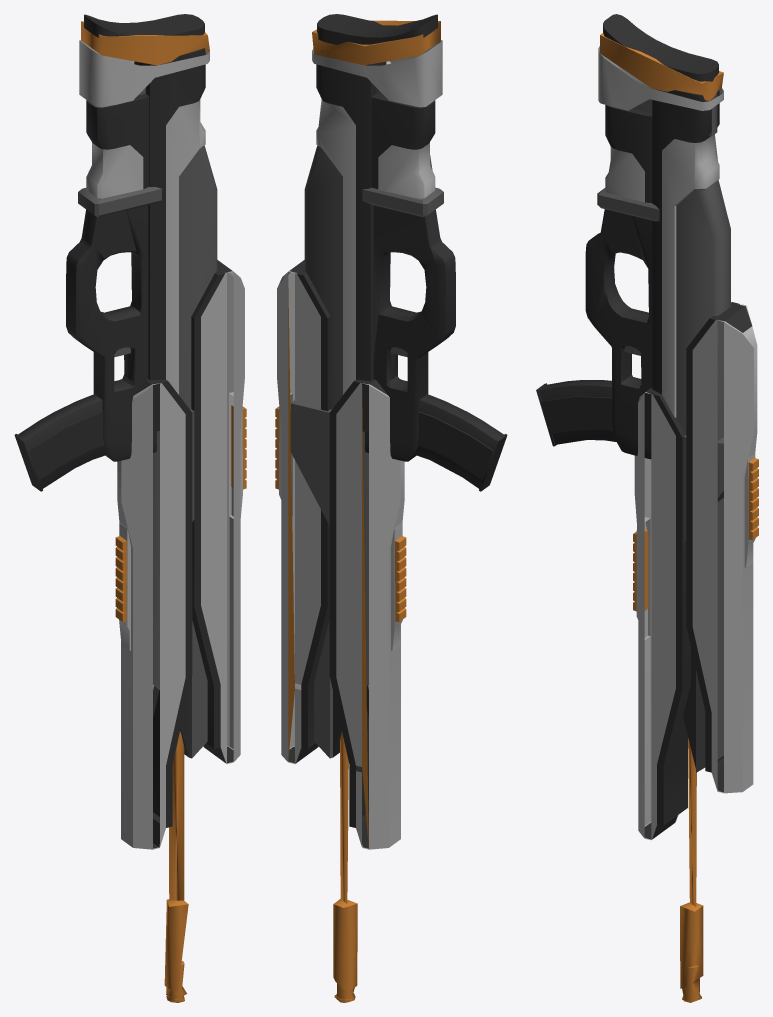
File: qg-sniper-1-lod2.glb
3 views of the same model, side by side, from view 1: azimuth 30°, elevation 25°; view 2: azimuth 150°, elevation 25°; view 3: azimuth 330°, elevation 25° (orthographic). The views are drawn at different scales.
Parts seen in each view (by area): view 1: WeaponMesh_qg-sniper-1_Sniper_1, WeaponMesh_qg-sniper-1_Magazine_Sniper; view 2: WeaponMesh_qg-sniper-1_Sniper_1, WeaponMesh_qg-sniper-1_Magazine_Sniper; view 3: WeaponMesh_qg-sniper-1_Sniper_1, WeaponMesh_qg-sniper-1_Magazine_Sniper.
Boxes of the visible parts, left/top/right/bottom form: WeaponMesh_qg-sniper-1_Sniper_1: left=66, top=14, right=246, bottom=1002; WeaponMesh_qg-sniper-1_Magazine_Sniper: left=14, top=394, right=107, bottom=491; WeaponMesh_qg-sniper-1_Sniper_1: left=275, top=14, right=455, bottom=1002; WeaponMesh_qg-sniper-1_Magazine_Sniper: left=414, top=394, right=507, bottom=491; WeaponMesh_qg-sniper-1_Sniper_1: left=585, top=14, right=758, bottom=1002; WeaponMesh_qg-sniper-1_Magazine_Sniper: left=536, top=380, right=616, bottom=446.
Bounding box in the file's own units: 0.3331 × 1.42 × 0.0657.
